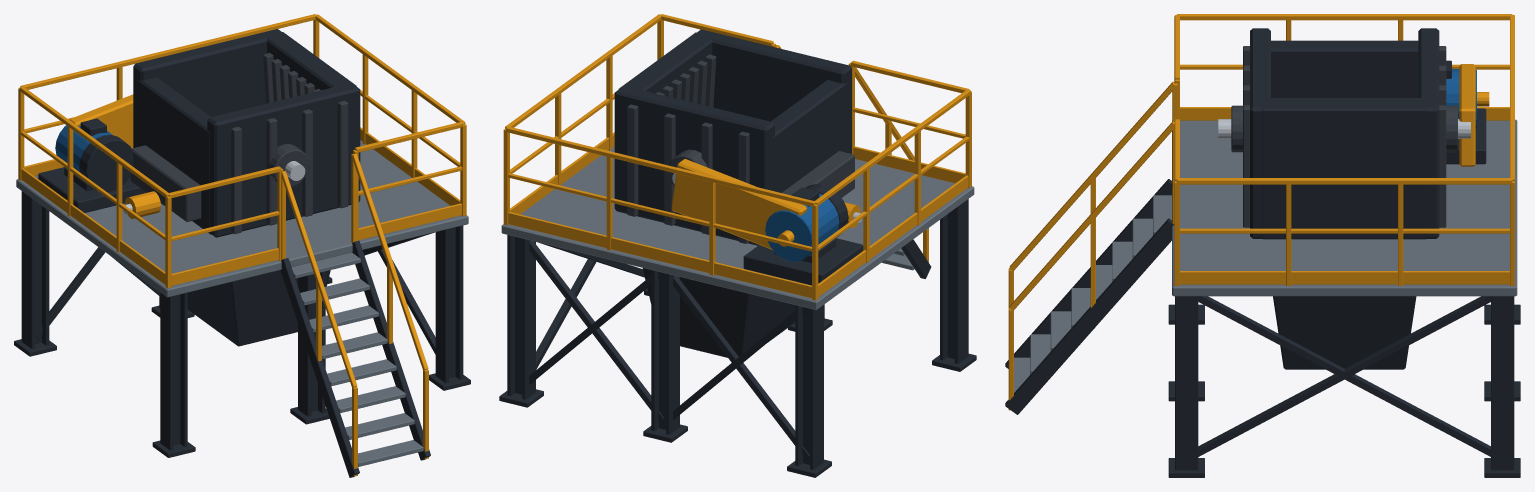
File: jaw_crusher_jc101.glb
The picture shows the model from 3 angles, left to right: view 1: azimuth 30°, elevation 25°; view 2: azimuth 150°, elevation 25°; view 3: azimuth 270°, elevation 25°; orthographic projection. The views are drawn at different scales.
Parts seen in each view (by area): view 1: JC101_BearingBoss_L; view 2: JC101_BearingBoss_L; view 3: JC101_BearingBoss_L.
Boxes of the visible parts, x1,y1,x2,y2 form: JC101_BearingBoss_L: [14, 14, 470, 477]; JC101_BearingBoss_L: [499, 14, 976, 477]; JC101_BearingBoss_L: [1005, 14, 1520, 477].
Size of the model in its own units: 3.41 by 3.1 by 4.41.
Materials: 1 (1 with a texture image).
